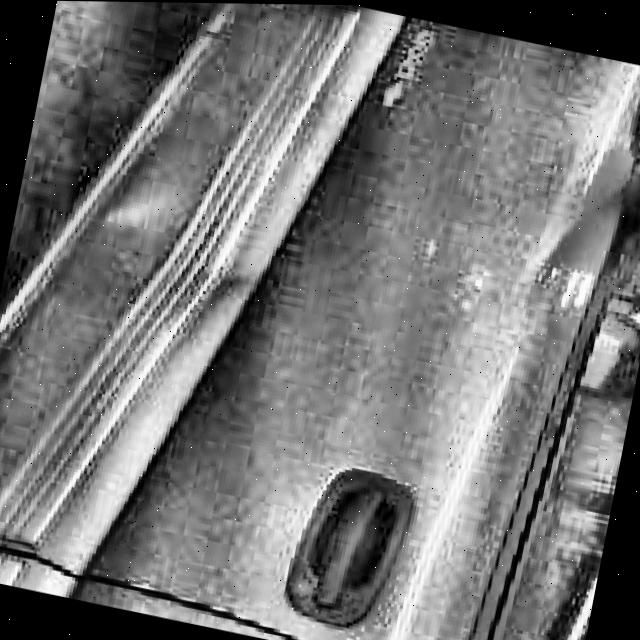door_dent: (74, 172, 279, 323)
